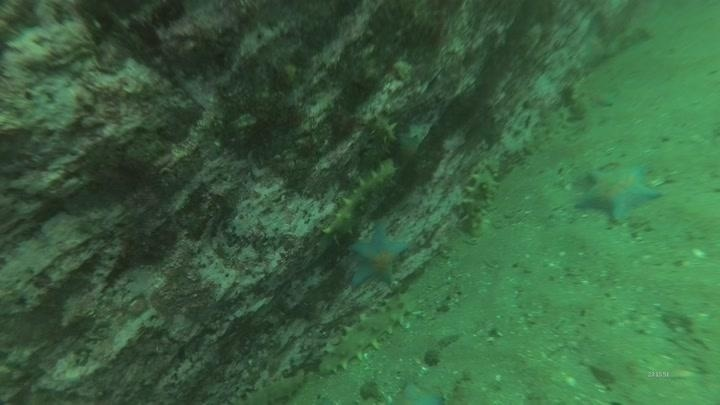holothurian: (314, 292, 419, 377), (318, 158, 402, 246), (456, 154, 503, 240), (239, 369, 312, 404), (361, 109, 402, 161)
starfish: (572, 161, 666, 226), (344, 220, 414, 291), (390, 130, 426, 175), (388, 378, 447, 403)
